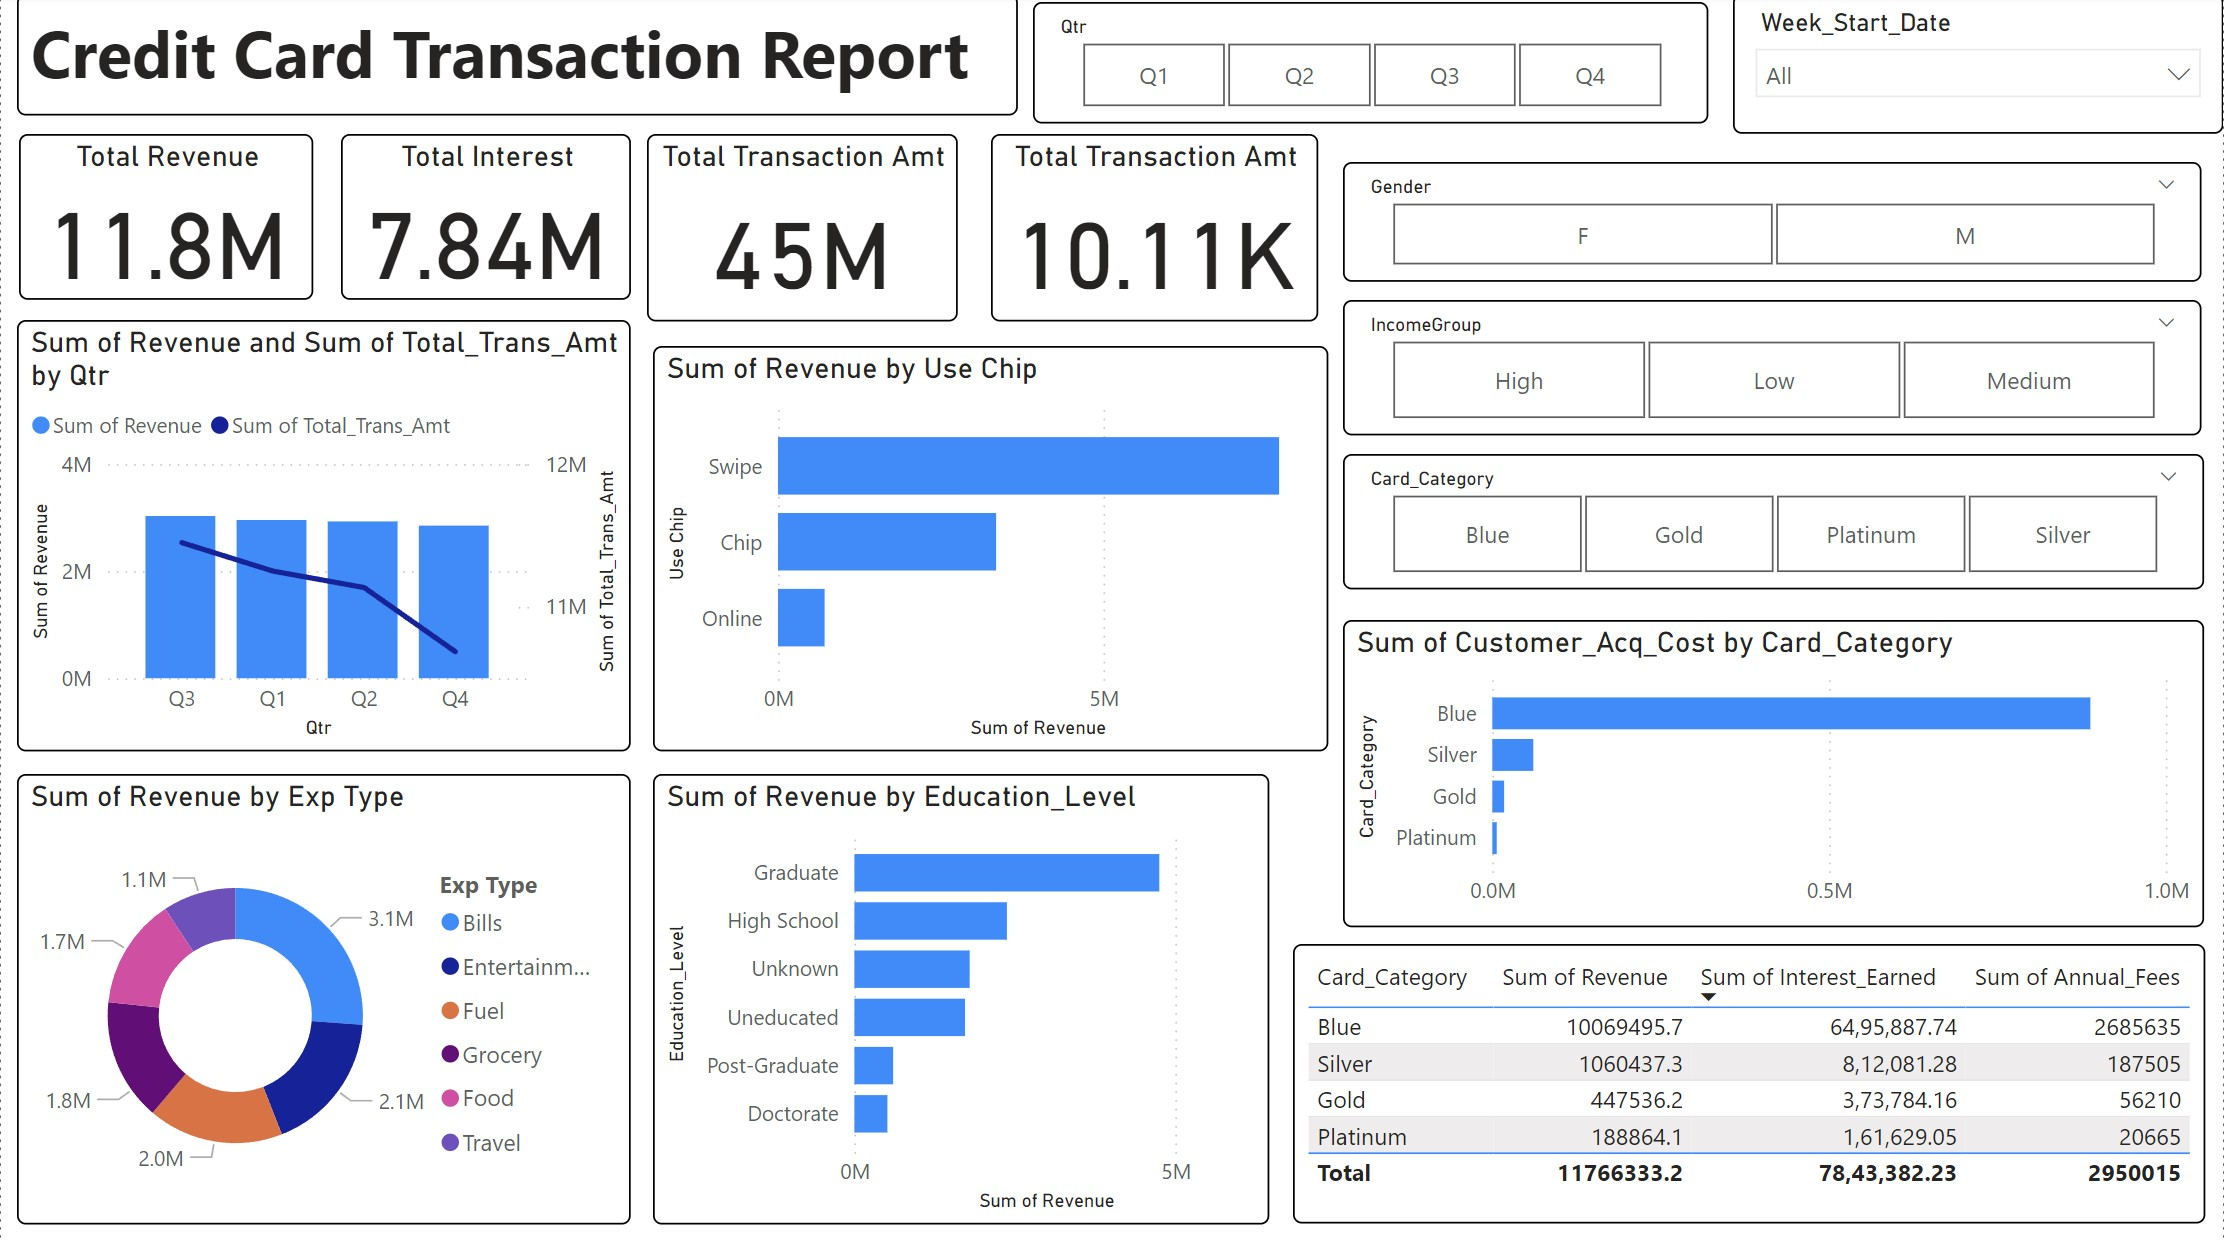

This screenshot's page, from the dashboard's own definition file:
{"tool":"powerbi","page":{"name":"Page 2","canvas":[1280,720],"ordinal":1},"visuals":[{"type":"textbox","box":[10,0,280,280],"z":0},{"type":"textbox","box":[8.9,0,576.3,70.1],"z":1000},{"type":"lineStackedColumnComboChart","fields":{"Category":["credit_card.Qtr"],"Y":["Sum(credit_card.Revenue)"],"Y2":["Sum(credit_card.Total_Trans_Amt)"]},"box":[9.6,188.3,353.4,248.4],"z":2000},{"type":"slicer","fields":{"Values":["credit_card.Qtr"]},"box":[594.1,5.1,388.8,70.1],"z":3000},{"type":"card","title":"Total Revenue","fields":{"Values":["Sum(credit_card.Revenue)"]},"box":[10.2,80.3,169.6,95.6],"z":4000},{"type":"card","title":"Total Interest ","fields":{"Values":["Sum(credit_card.Interest_Earned)"]},"box":[196.3,80.3,167,95.6],"z":5000},{"type":"card","title":"Total Transaction Amt","fields":{"Values":["Sum(credit_card.Total_Trans_Amt)"]},"box":[372.5,80.5,178.8,107.8],"z":6000},{"type":"card","title":"Total Transaction Amt","fields":{"Values":["CountNonNull(credit_card.Total_Trans_Amt)"]},"box":[570.4,80.5,188.3,107.8],"z":7000},{"type":"tableEx","fields":{"Values":["credit_card.Card_Category","Sum(credit_card.Revenue)","Sum(credit_card.Interest_Earned)","Sum(credit_card.Annual_Fees)"]},"box":[743.7,547.2,525.4,161],"z":8000},{"type":"slicer","fields":{"Values":["credit_card.Week_Start_Date"]},"box":[997.5,0,282.5,80.5],"z":9000},{"type":"slicer","fields":{"Values":["customer.Gender"]},"box":[772.6,96.9,494.7,68.8],"z":10000},{"type":"slicer","fields":{"Values":["customer.IncomeGroup"]},"box":[772.6,175.9,494.7,77.8],"z":11000},{"type":"slicer","fields":{"Values":["credit_card.Card_Category"]},"box":[772.6,265.2,495.9,77.8],"z":12000},{"type":"barChart","fields":{"Category":["credit_card.Use Chip"],"Y":["Sum(credit_card.Revenue)"]},"box":[375.3,203.3,388.9,233.3],"z":13000},{"type":"barChart","fields":{"Category":["credit_card.Card_Category"],"Y":["Sum(credit_card.Customer_Acq_Cost)"]},"box":[772.6,360.8,495.9,177.2],"z":14000},{"type":"donutChart","fields":{"Y":["Sum(credit_card.Revenue)"],"Category":["credit_card.Exp Type"]},"box":[9.6,449,353.4,259.3],"z":15000},{"type":"barChart","fields":{"Y":["Sum(credit_card.Revenue)"],"Category":["customer.Education_Level"]},"box":[375.3,449,354.8,259.3],"z":16000}]}

Visuals, with their boxes in screenshot pixels (x1, y1, x2, y2), scaled from the page's 1280x720 canvas onto the 2224x1240 screenshot:
textbox: Rect(17, 0, 504, 482)
textbox: Rect(15, 0, 1017, 121)
lineStackedColumnComboChart - credit_card.Qtr x Sum(credit_card.Revenue): Rect(17, 324, 631, 752)
slicer - credit_card.Qtr: Rect(1032, 9, 1708, 130)
"Total Revenue" card: Rect(18, 138, 312, 303)
"Total Interest " card: Rect(341, 138, 631, 303)
"Total Transaction Amt" card: Rect(647, 139, 958, 324)
"Total Transaction Amt" card: Rect(991, 139, 1318, 324)
tableEx - credit_card.Card_Category x Sum(credit_card.Revenue): Rect(1292, 942, 2205, 1220)
slicer - credit_card.Week_Start_Date: Rect(1733, 0, 2223, 139)
slicer - customer.Gender: Rect(1342, 167, 2202, 285)
slicer - customer.IncomeGroup: Rect(1342, 303, 2202, 437)
slicer - credit_card.Card_Category: Rect(1342, 457, 2204, 591)
barChart - credit_card.Use Chip x Sum(credit_card.Revenue): Rect(652, 350, 1328, 752)
barChart - credit_card.Card_Category x Sum(credit_card.Customer_Acq_Cost): Rect(1342, 621, 2204, 927)
donutChart - Sum(credit_card.Revenue) x credit_card.Exp Type: Rect(17, 773, 631, 1220)
barChart - Sum(credit_card.Revenue) x customer.Education_Level: Rect(652, 773, 1269, 1220)
